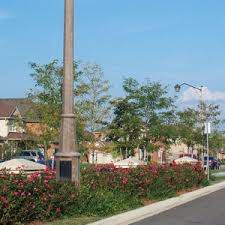light_pole: (52, 0, 84, 191)
